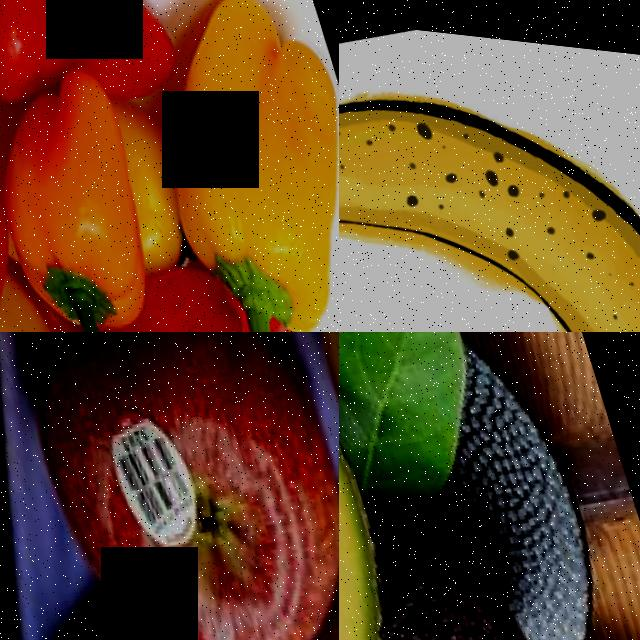apple: (0, 332, 339, 640), (13, 571, 337, 640)
avocado: (339, 332, 437, 640), (357, 522, 583, 640)
banana: (339, 0, 640, 332)
bell pepper: (133, 0, 339, 297), (0, 80, 153, 332), (0, 0, 157, 102), (62, 257, 264, 332)
